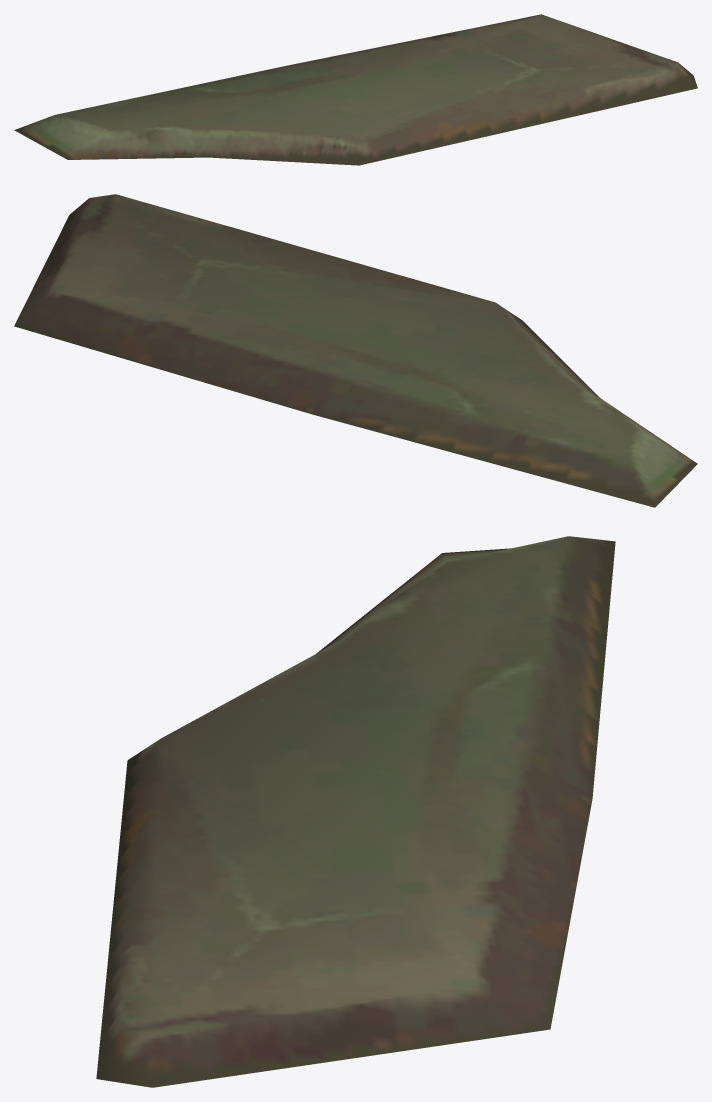
The model's file is yw_shanlin_tile_008.FBX.
The picture shows the model from 3 angles, top to bottom: view 1: azimuth 30°, elevation 25°; view 2: azimuth 150°, elevation 25°; view 3: azimuth 270°, elevation 25°; orthographic projection. The views are drawn at different scales.
Visible parts, largest first — view 1: yw_shanlin_tile_008; view 2: yw_shanlin_tile_008; view 3: yw_shanlin_tile_008.
Part boxes in pixels (<box>): yw_shanlin_tile_008: <box>14,14,697,165</box>; yw_shanlin_tile_008: <box>14,194,697,507</box>; yw_shanlin_tile_008: <box>96,536,615,1087</box>.
Size of the model in its own units: 74.79 by 29.82 by 2.58.
